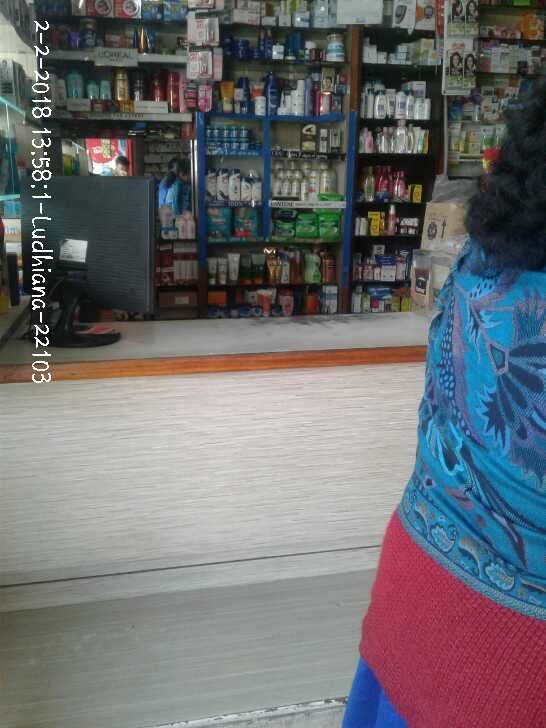vicks: (207, 123, 258, 156)
